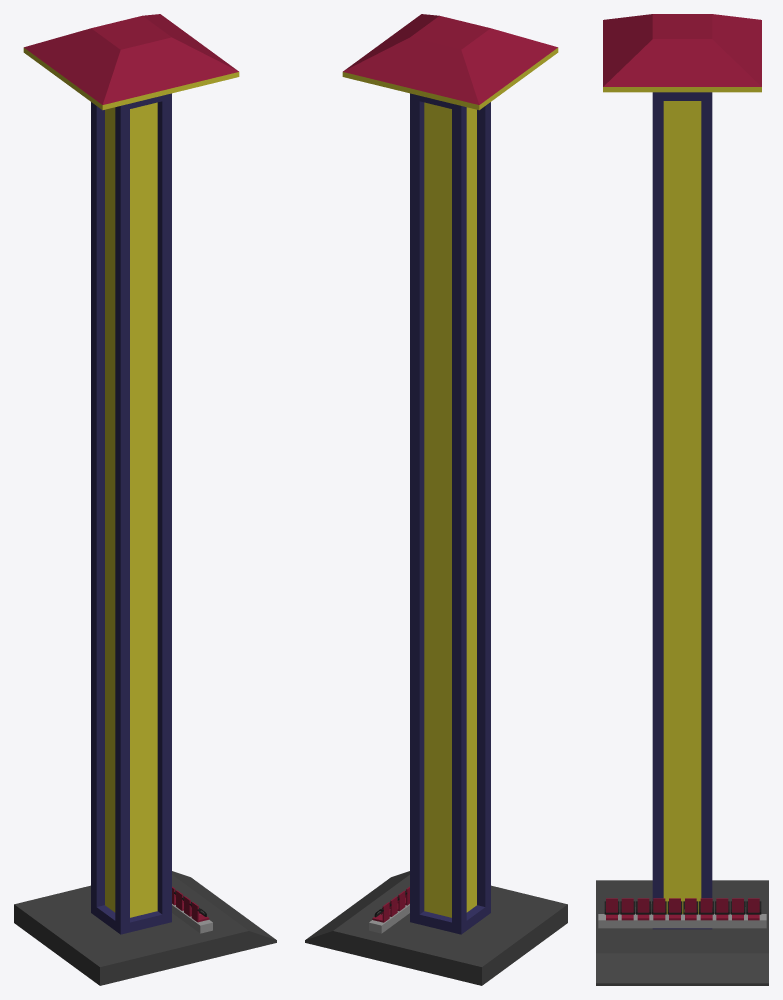
Rendered from CarouselDrop.fbx.
The picture shows the model from 3 angles, left to right: view 1: azimuth 30°, elevation 25°; view 2: azimuth 150°, elevation 25°; view 3: azimuth 270°, elevation 25°; orthographic projection.
Visible parts, largest first — view 1: CarouselDrop; view 2: CarouselDrop; view 3: CarouselDrop.
Part boxes in pixels (x1,y1,x2,y2): CarouselDrop: (14,14,276,985); CarouselDrop: (305,14,567,985); CarouselDrop: (596,14,768,985).
Bounding box in the file's own units: 691 × 3373 × 582.
